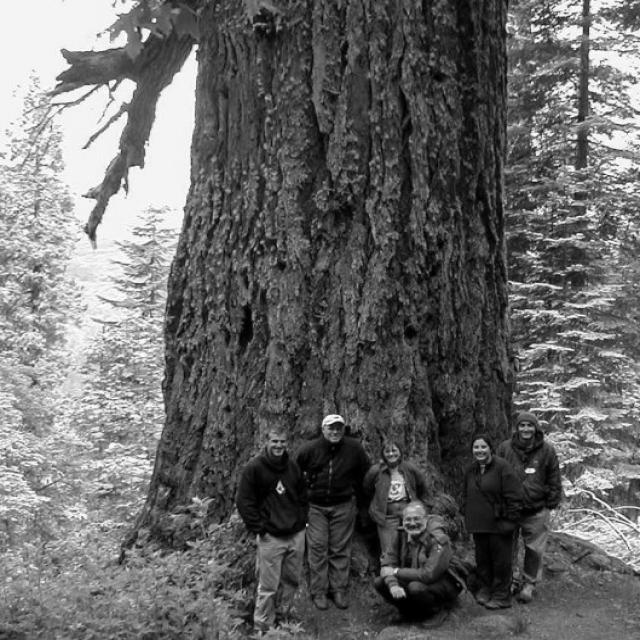Pseudotsuga menziesii: (161, 9, 512, 410)
